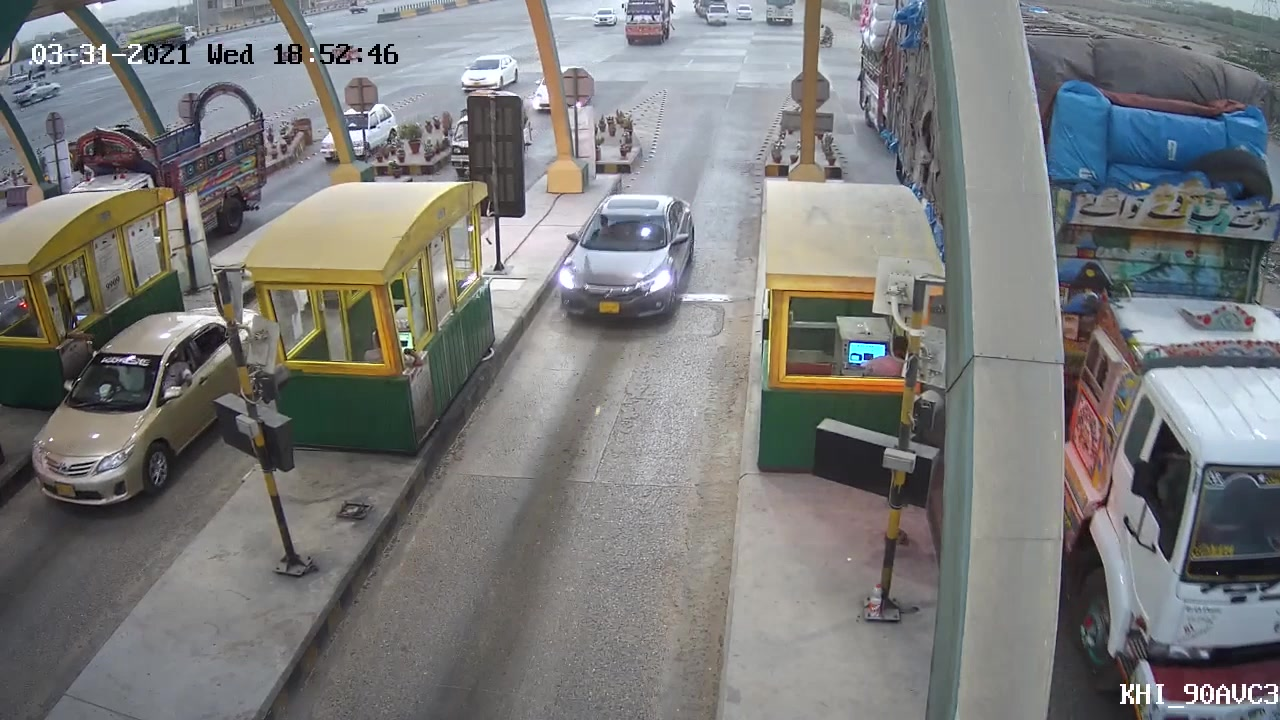F1: (543, 182, 708, 343)
